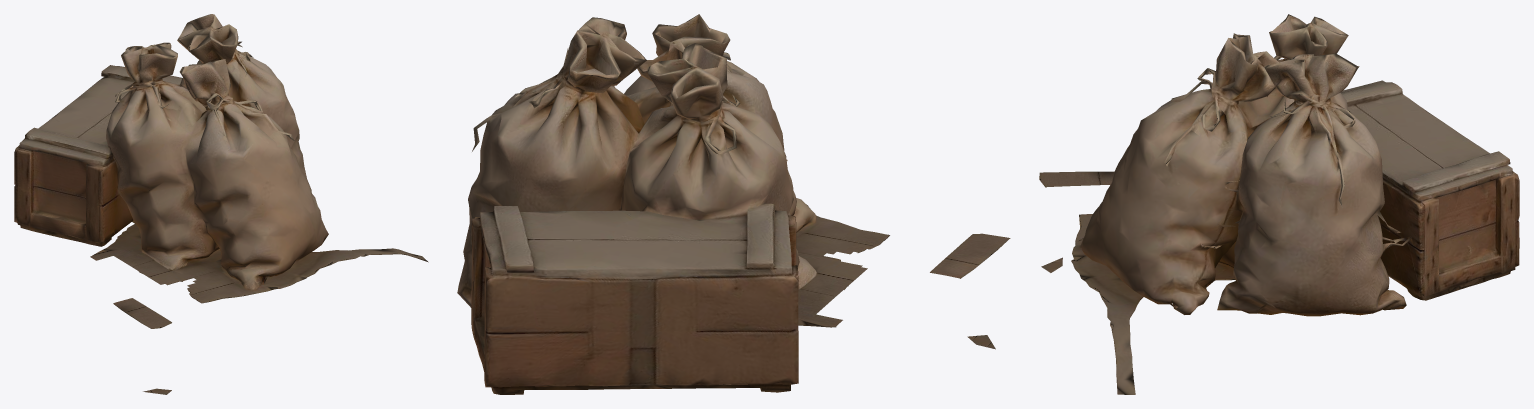
File: a_sacks.glb
The picture shows the model from 3 angles, left to right: view 1: azimuth 30°, elevation 25°; view 2: azimuth 150°, elevation 25°; view 3: azimuth 270°, elevation 25°; orthographic projection. The views are drawn at different scales.
Visible parts, largest first — view 1: tripo_node_d9a00440-7a92-4344-b3fe-4c5db44fb8b9; view 2: tripo_node_d9a00440-7a92-4344-b3fe-4c5db44fb8b9; view 3: tripo_node_d9a00440-7a92-4344-b3fe-4c5db44fb8b9.
Part boxes in pixels (bbox=[...]): tripo_node_d9a00440-7a92-4344-b3fe-4c5db44fb8b9: bbox=[14, 14, 428, 394]; tripo_node_d9a00440-7a92-4344-b3fe-4c5db44fb8b9: bbox=[457, 14, 1010, 394]; tripo_node_d9a00440-7a92-4344-b3fe-4c5db44fb8b9: bbox=[1039, 14, 1519, 394].
Bounding box in the file's own units: 0.9501 × 0.741 × 1.04.
1 material, 1 textured.
